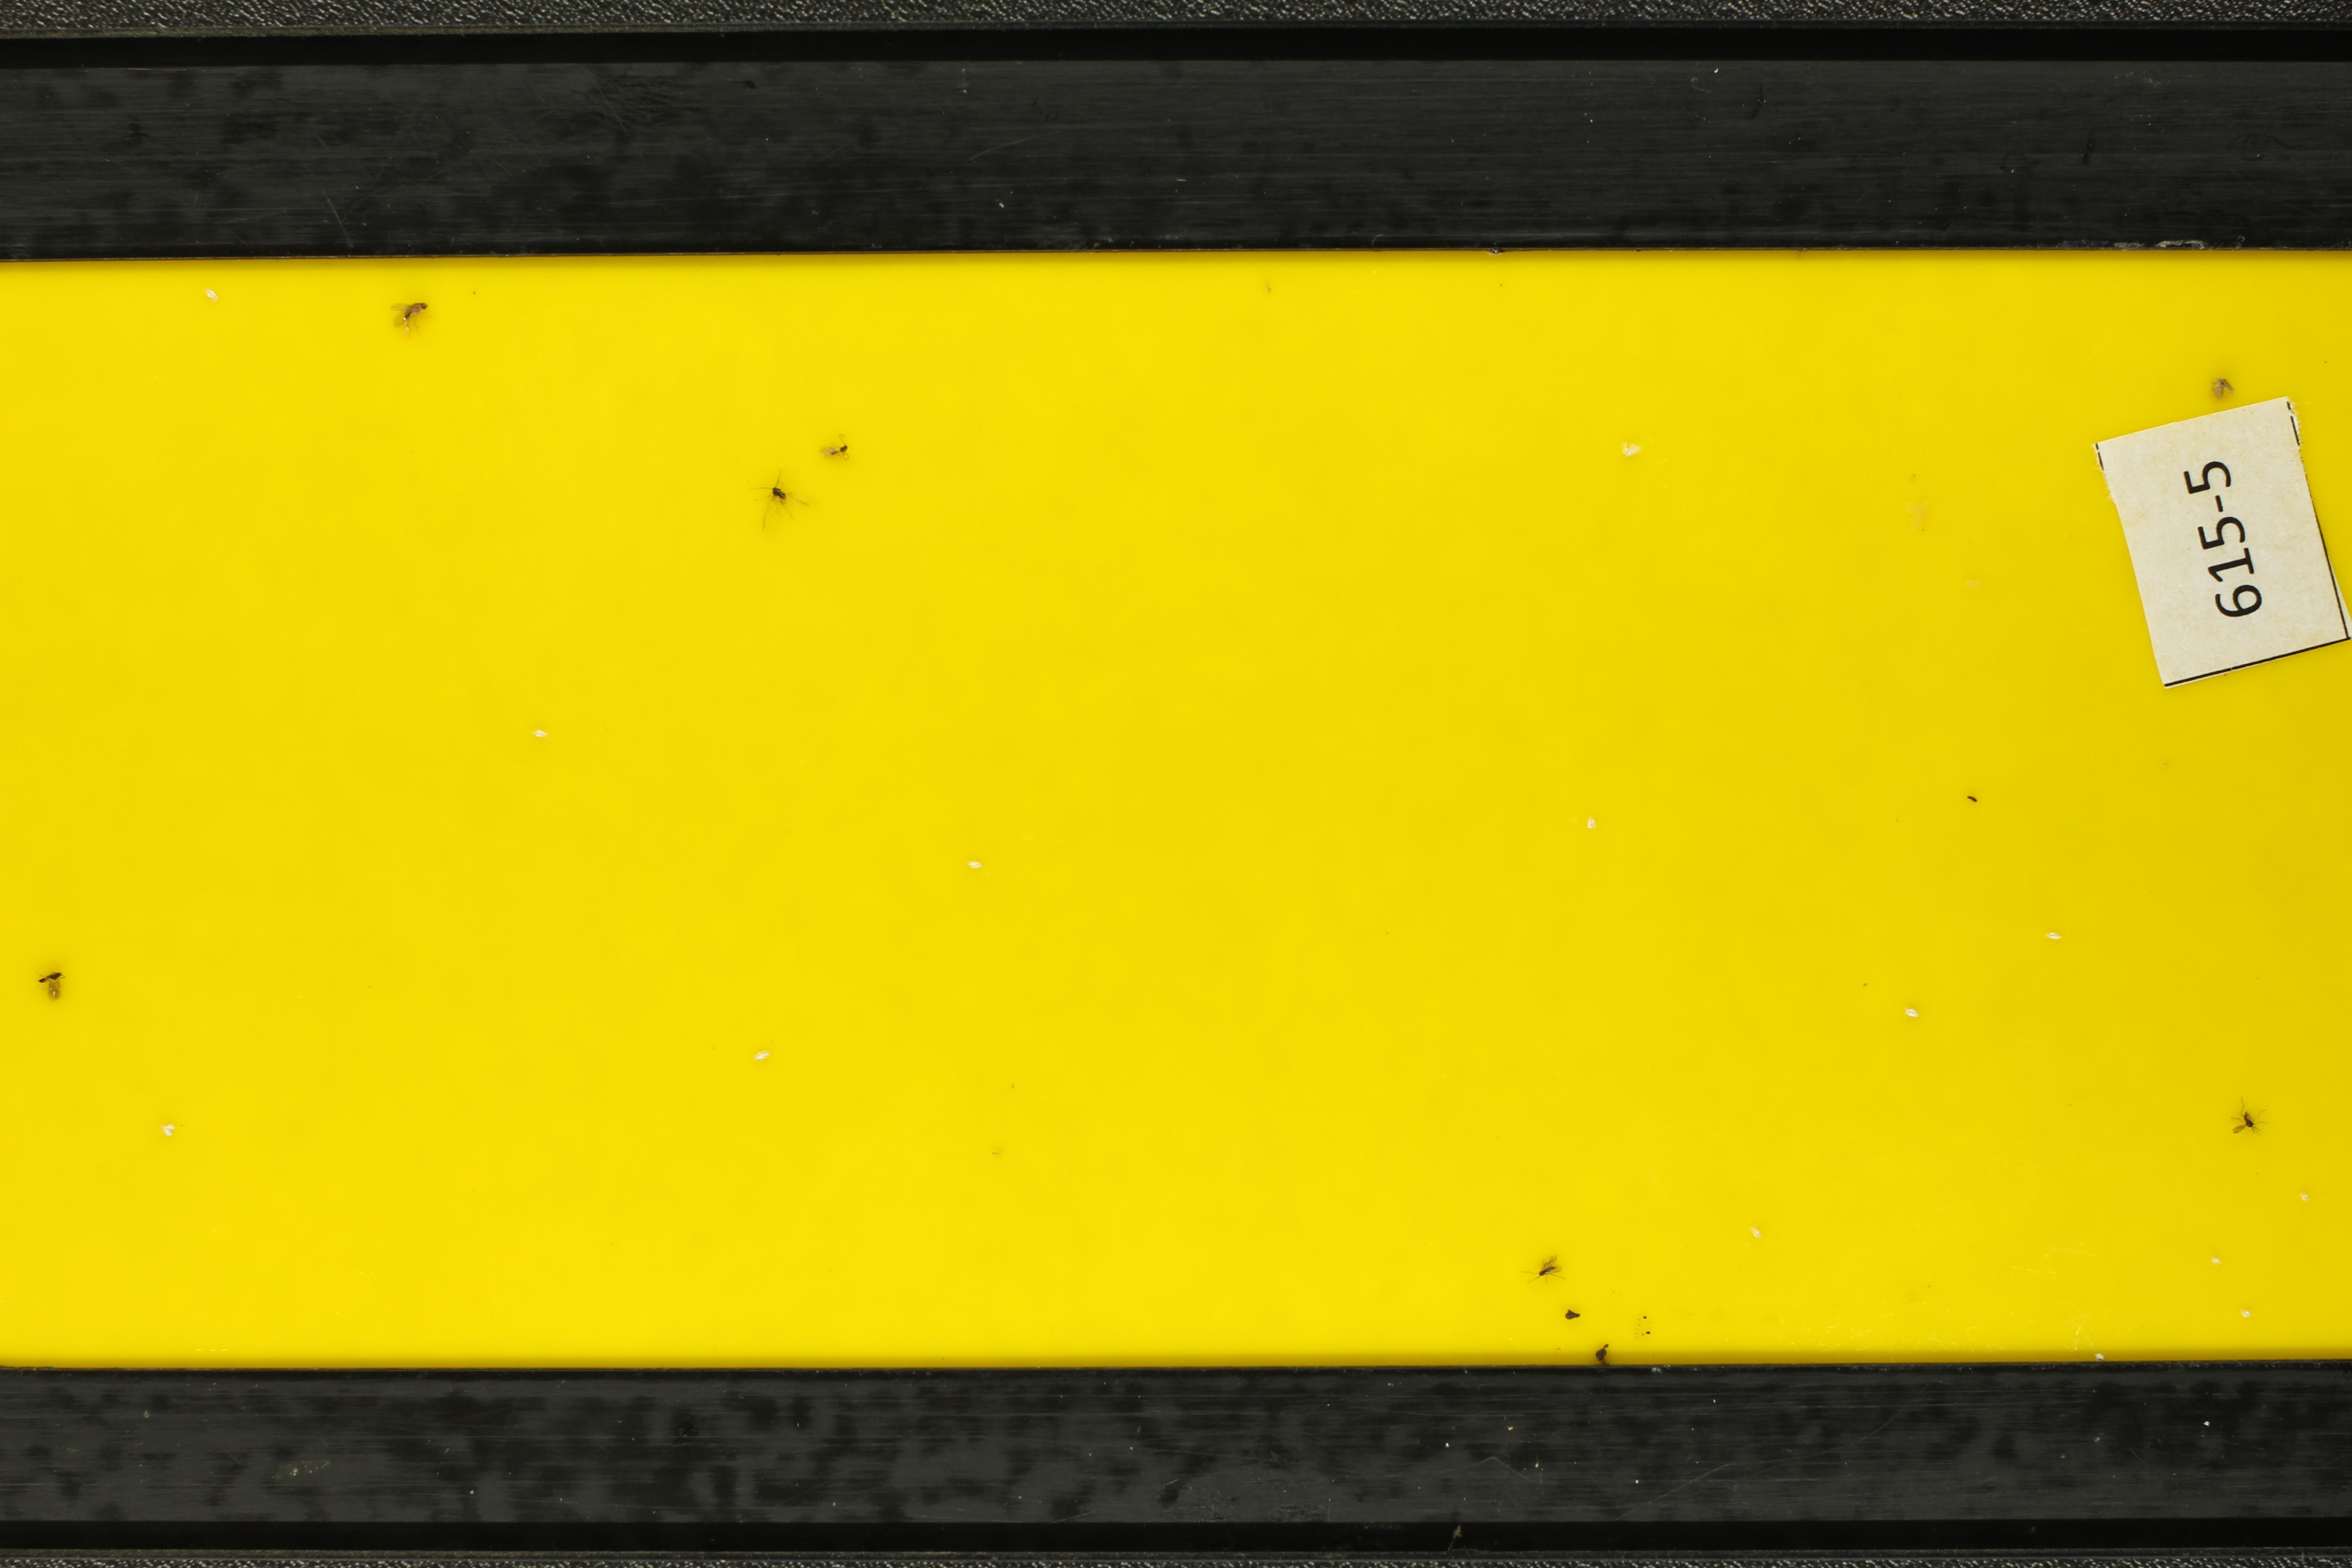WF: (963, 854, 994, 882), (1617, 436, 1643, 464), (158, 1115, 184, 1141), (2235, 1302, 2261, 1323), (1745, 1221, 1767, 1244), (530, 724, 555, 745), (749, 1046, 773, 1068), (2042, 926, 2067, 947), (2086, 1346, 2114, 1363), (1579, 814, 1603, 833), (2205, 1253, 2229, 1272), (2294, 1188, 2317, 1207), (1901, 1003, 1921, 1022), (199, 287, 222, 304)
